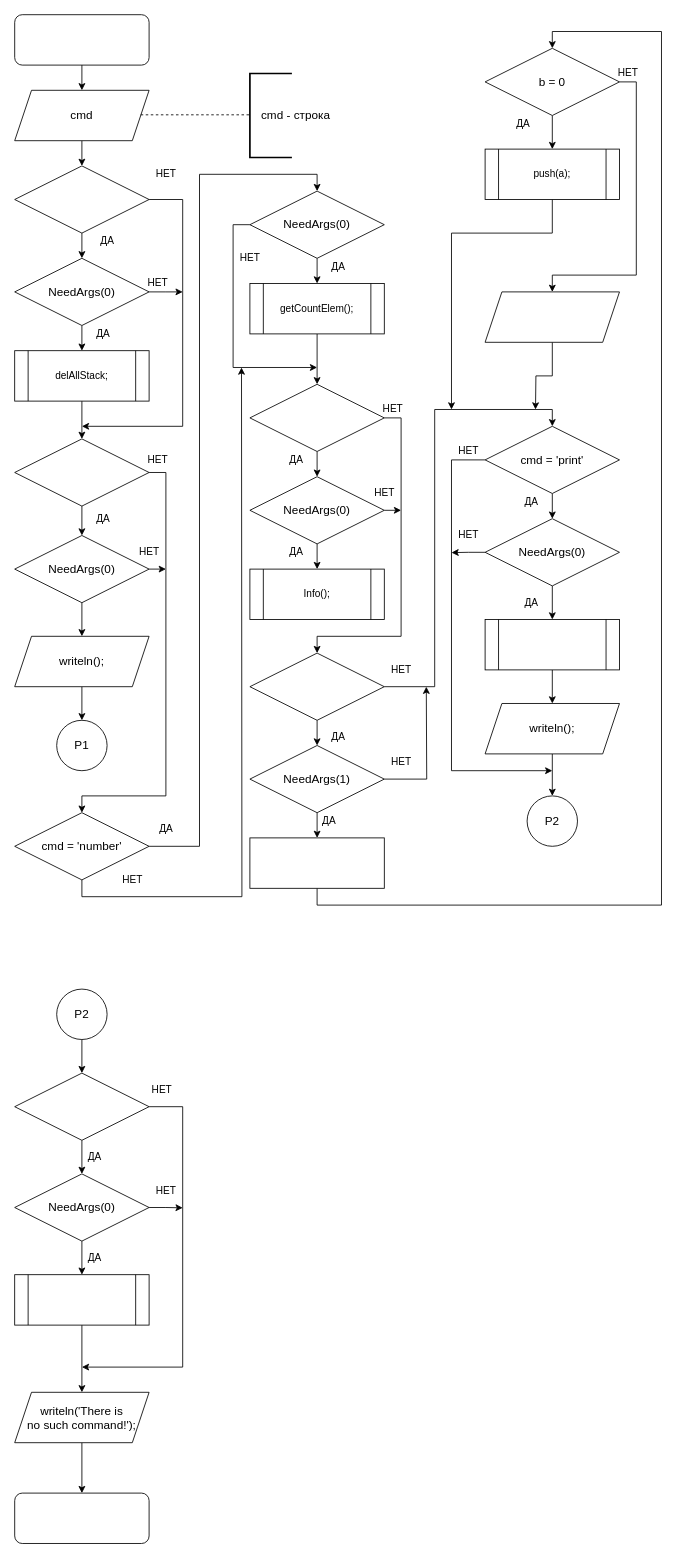
This 683x1558 diagram has some shape labels left out. Each missing label, with the centre of its shape:
Action НАЧАЛО: (81,39)
cmd = ' 'delete': (81,1106)
cmd = 'clear': (81,199)
cmd = 'exit': (81,472)
cmd = 'help': (316,417)
cmd = 'insert': (316,686)
pop;: (81,1299)
printFromTop;: (552,644)
val(cmdEl[1],a,b);: (316,862)
writeln('The argument must be a number!');: (552,316)
КОНЕЦ Action: (81,1518)
